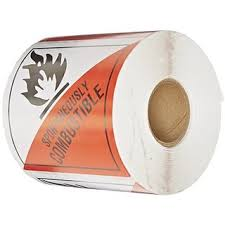SpontaneouslyCombustible: (7, 46, 126, 172)
